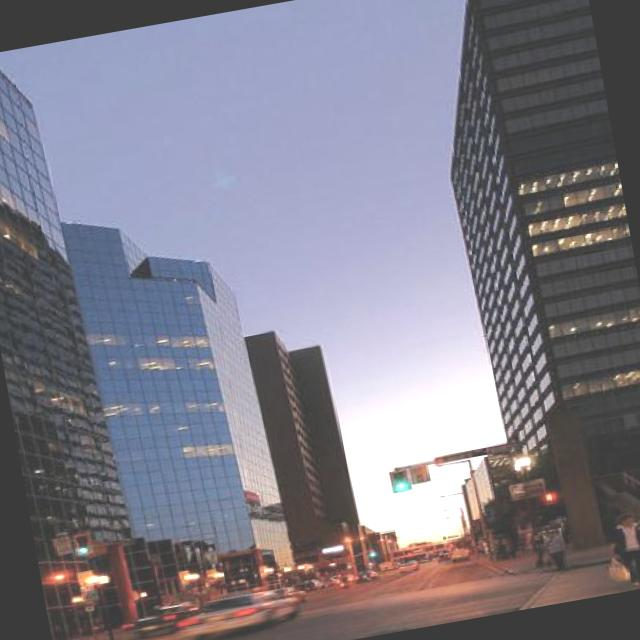Person: (602, 508, 640, 588), (540, 529, 568, 572), (529, 532, 549, 568)
